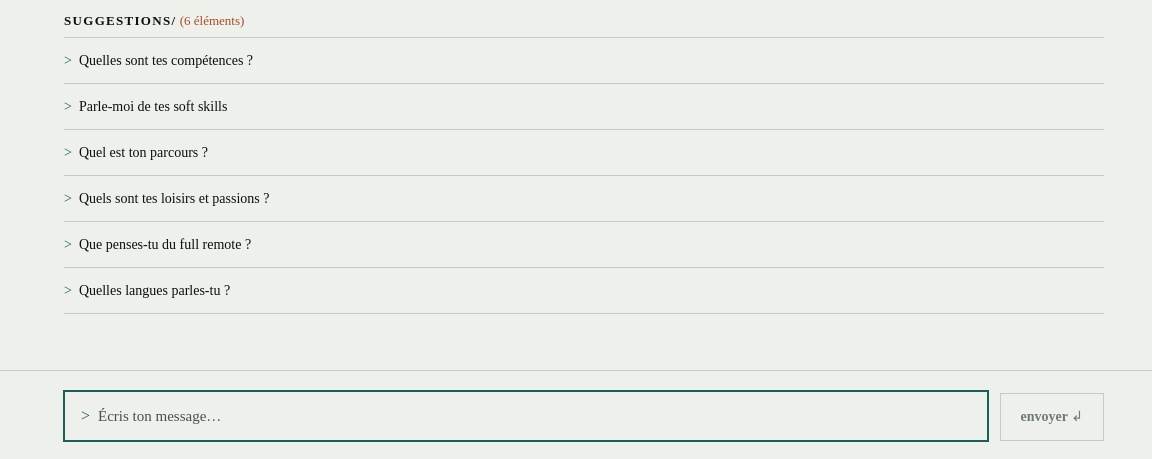
Test: ChatInterface › active le bouton d'envoi quand l'input contient du texte
Type "Bonjour" into the text box named "message à envoyer" at {"x": 534, "y": 416}, box x1=98 y1=404 x2=971 y2=428
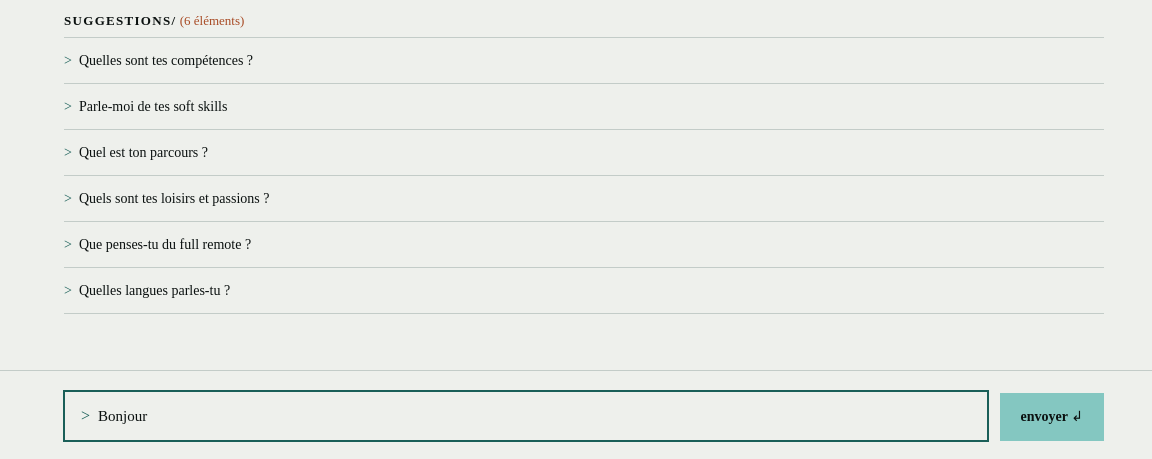
Now the button "envoyer ↲" is enabled, box x1=1000 y1=392 x2=1104 y2=440
